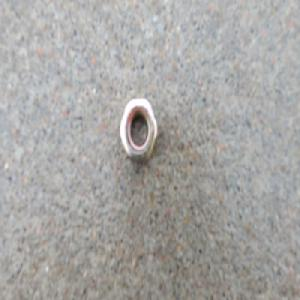Nut: (118, 94, 157, 164)
